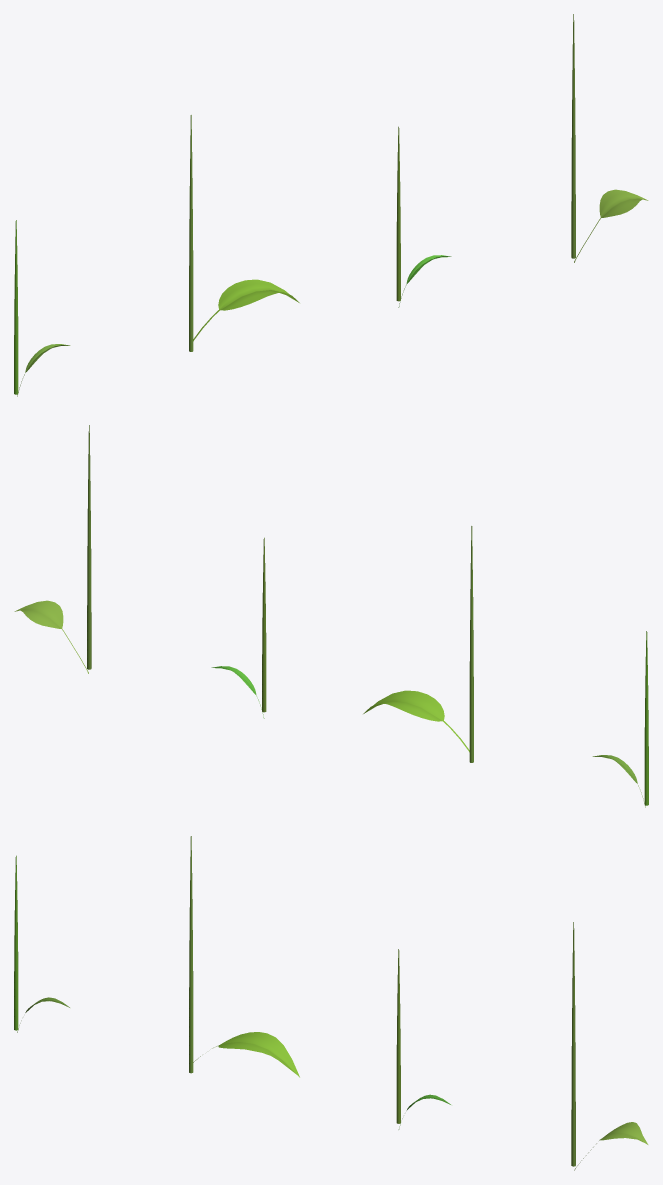
Rendered from TYPES OF LEAVES.gltf.
3 renders of one model, top to bottom at view 1: azimuth 30°, elevation 25°; view 2: azimuth 150°, elevation 25°; view 3: azimuth 330°, elevation 25°, orthographic.
Parts seen in each view (by area): view 1: FEUILLE, tIGE.002, FEUILLE.002, tIGE, tIGE.001, tIGE.003; view 2: FEUILLE, tIGE.002, FEUILLE.002, tIGE, tIGE.001, tIGE.003; view 3: FEUILLE, tIGE.002, tIGE, tIGE.003, tIGE.001, FEUILLE.002.
Boxes of the visible parts, x1,y1,x2,y2 form: FEUILLE: [193, 279, 299, 341]; tIGE.002: [571, 14, 575, 258]; FEUILLE.002: [574, 189, 648, 262]; tIGE: [189, 115, 193, 351]; tIGE.001: [396, 126, 400, 301]; tIGE.003: [14, 220, 18, 394]; FEUILLE: [363, 690, 469, 752]; tIGE.002: [87, 425, 91, 669]; FEUILLE.002: [14, 600, 88, 673]; tIGE: [469, 526, 473, 762]; tIGE.001: [262, 537, 266, 712]; tIGE.003: [644, 631, 648, 805]; FEUILLE: [193, 1032, 299, 1077]; tIGE.002: [571, 922, 575, 1166]; tIGE: [189, 836, 193, 1073]; tIGE.003: [14, 855, 18, 1030]; tIGE.001: [396, 949, 400, 1123]; FEUILLE.002: [574, 1122, 648, 1170].
Bounding box in the file's own units: 38.92 × 14.72 × 2.57.
